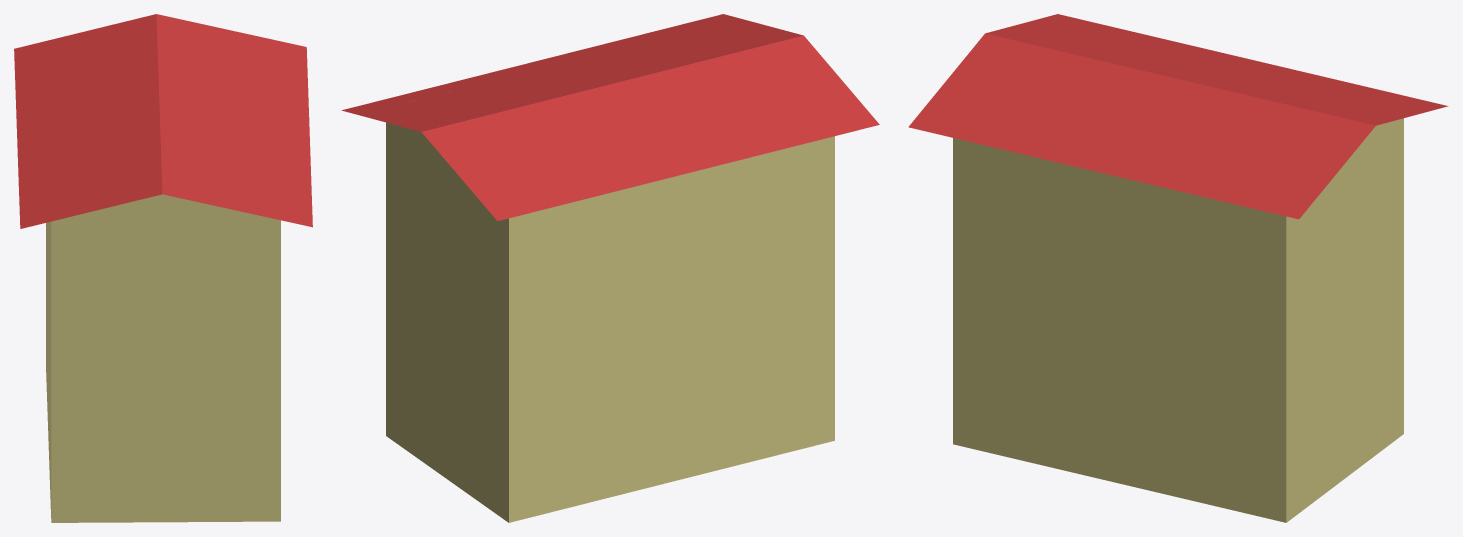
The picture shows the model from 3 angles, left to right: view 1: azimuth 30°, elevation 25°; view 2: azimuth 150°, elevation 25°; view 3: azimuth 270°, elevation 25°; orthographic projection. The views are drawn at different scales.
Visible parts, largest first — view 1: group_5, group_3, group_4; view 2: group_5, group_3, group_4; view 3: group_5, group_3, group_4.
Boxes of the visible parts, x1,y1,x2,y2 form: group_5: [46, 194, 280, 522]; group_3: [15, 14, 312, 227]; group_4: [14, 14, 306, 228]; group_5: [386, 122, 834, 522]; group_3: [343, 14, 834, 218]; group_4: [341, 36, 879, 221]; group_5: [953, 118, 1403, 522]; group_3: [908, 25, 1402, 218]; group_4: [986, 14, 1448, 219].
Bounding box in the file's own units: 7.36 × 8.19 × 5.98.
